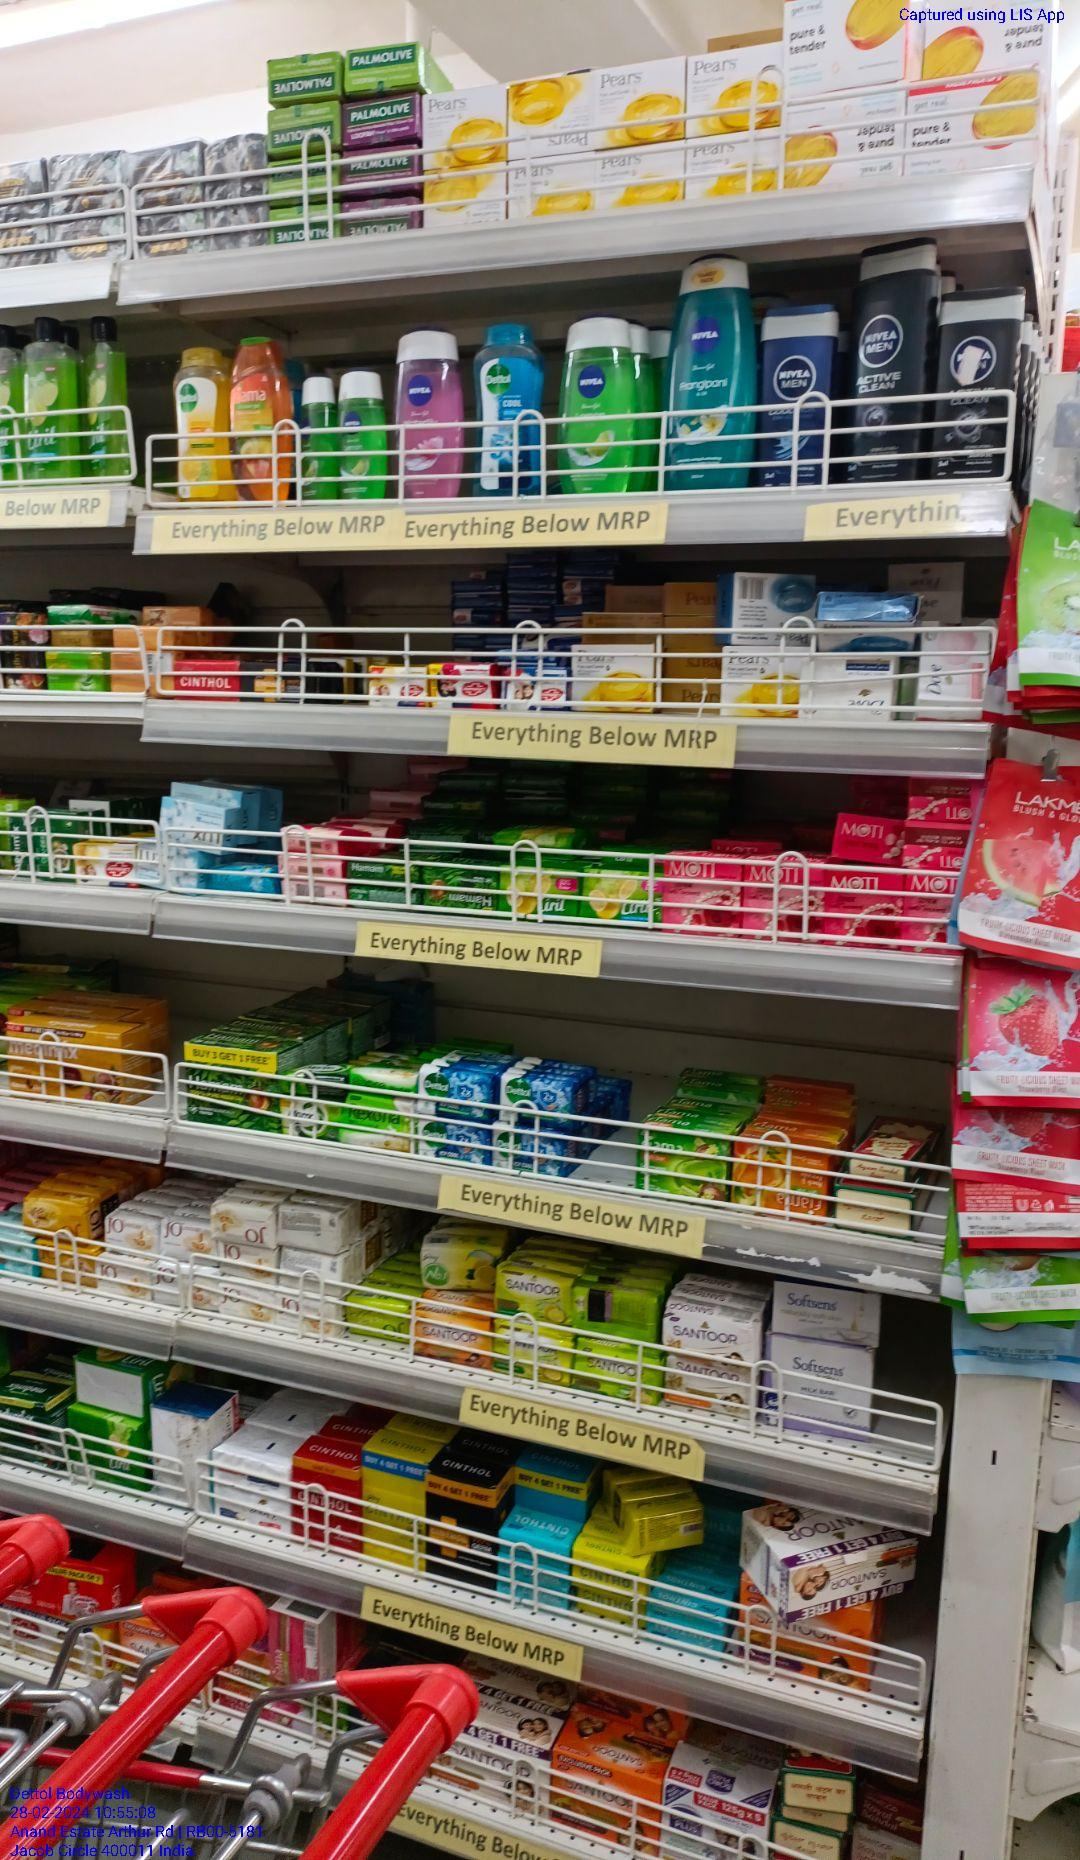Dettol_Bodywash_Cool: (476, 315, 539, 499)
Dettol_Bodywash_Refresh: (174, 344, 233, 505)
Liril_Lime_and_Tea_Tree_Oil_Body_Wash_250ML: (23, 316, 75, 485), (80, 311, 122, 478)
Nivea_Shower_Gel_Frangipani_and_Oil_250ML: (665, 253, 751, 490)
Nivea_Shower_Gel_Lemon_and_Oil_250ML: (557, 310, 631, 503)
Nivea_Shower_Gel_Waterlily_and_Oil_250ML: (393, 329, 456, 503)
